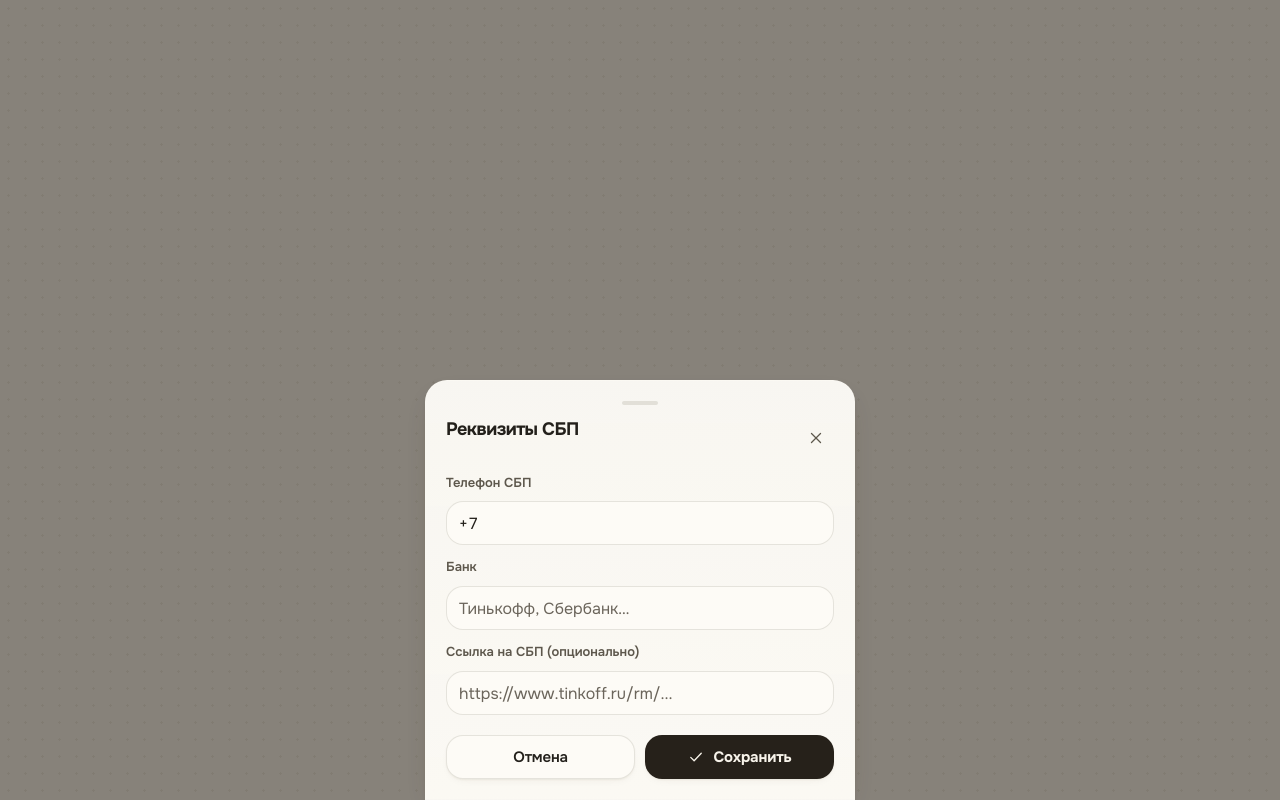
Test: EditPaymentInfoSheet › привычная восьмёрка не удваивает код страны, а «812» остаётся кодом города
Replace the text in the field labelled "Телефон СБП" with "+7 89261234567" at (640, 523), box [446,501,834,545]
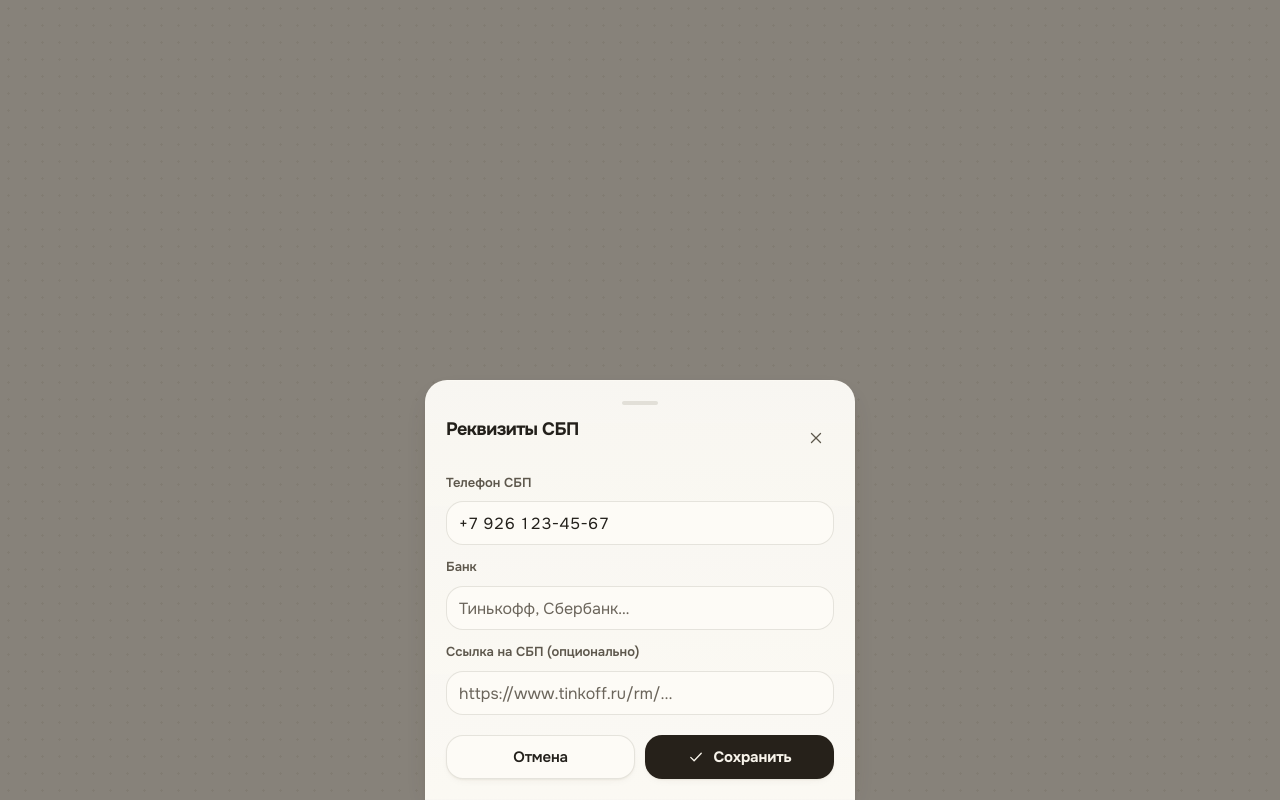
Check: the field labelled "Телефон СБП" holds "+7 926 123-45-67"
Replace the text in the field labelled "Телефон СБП" with "+7 8123456789" at (640, 523), box [446,501,834,545]
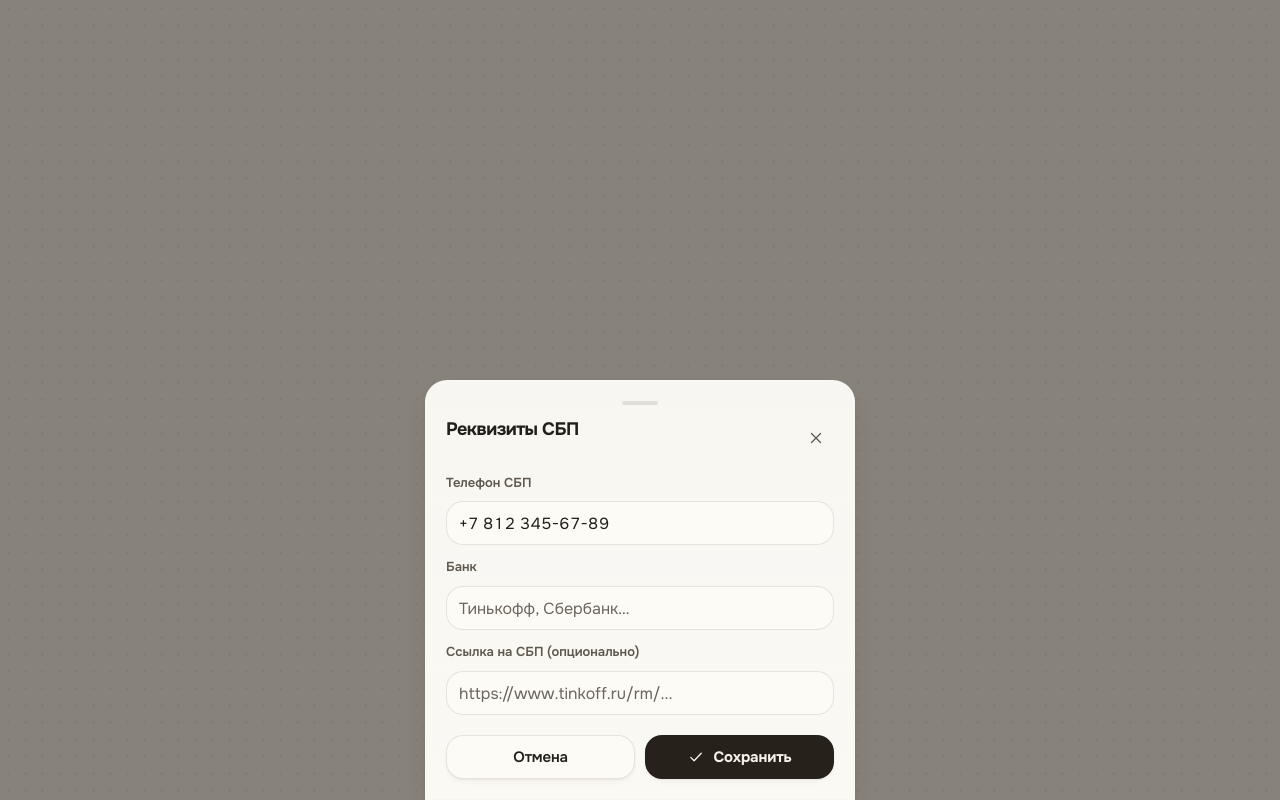
Check: the field labelled "Телефон СБП" holds "+7 812 345-67-89", box [446,501,834,545]
